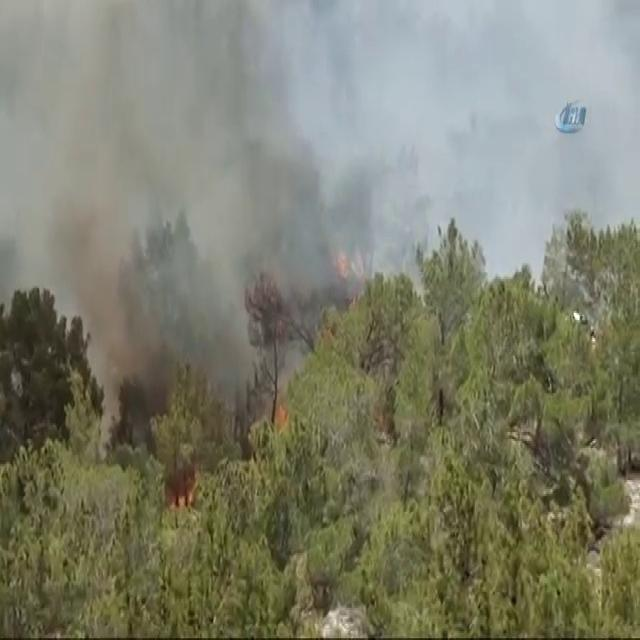Fire: (162, 458, 207, 511), (335, 244, 362, 289), (268, 392, 298, 430)
Smoke: (10, 8, 306, 301), (38, 42, 234, 263)
